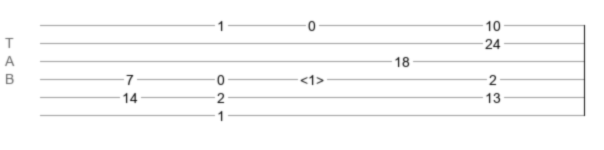0: (217, 72, 225, 82), (308, 18, 316, 28)
1: (217, 108, 225, 118), (217, 18, 225, 28)
10: (485, 18, 501, 28)
13: (485, 90, 501, 100)
14: (122, 90, 138, 100)
18: (394, 54, 410, 64)
2: (217, 90, 225, 100), (489, 72, 497, 82)
24: (485, 36, 501, 46)
7: (126, 72, 134, 82)
harmonic: (300, 72, 324, 82)
